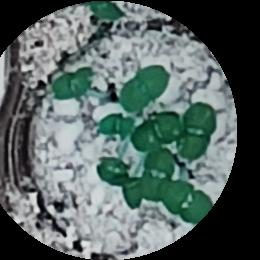Basil: (92, 156, 141, 210), (176, 105, 221, 160), (128, 108, 180, 152), (173, 181, 218, 229), (115, 65, 166, 105), (143, 150, 172, 204), (54, 68, 97, 103), (96, 113, 130, 135)
